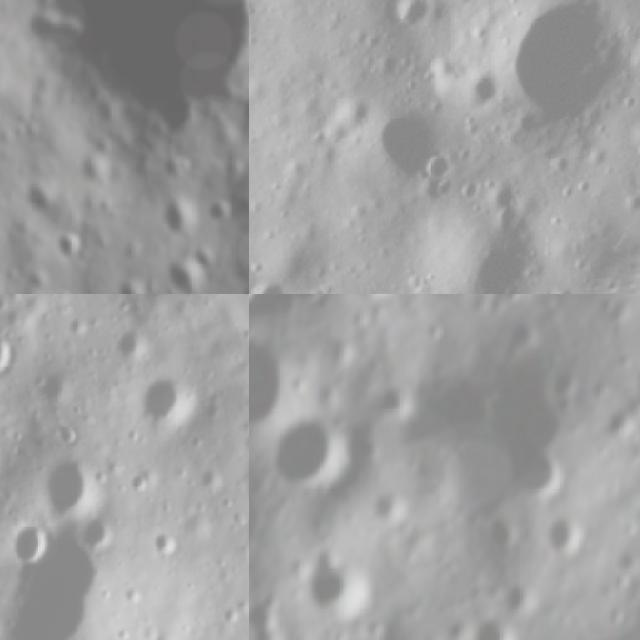crater: (27, 0, 249, 155), (446, 0, 640, 161), (396, 154, 575, 294), (410, 379, 580, 513), (350, 76, 463, 190), (262, 412, 360, 494), (26, 443, 110, 531), (306, 550, 384, 624), (249, 332, 305, 433), (136, 367, 211, 432), (249, 467, 290, 573), (7, 514, 56, 576), (536, 510, 592, 564), (517, 448, 571, 503), (249, 255, 308, 294), (160, 191, 203, 242), (252, 590, 294, 640), (106, 327, 150, 372), (343, 422, 390, 464), (352, 347, 390, 398), (510, 307, 550, 355), (166, 255, 213, 294), (379, 376, 421, 418), (503, 572, 545, 614), (216, 506, 249, 558), (550, 362, 590, 404), (468, 611, 524, 640), (602, 404, 640, 446), (0, 328, 28, 384), (48, 228, 86, 267), (372, 483, 416, 515), (485, 508, 522, 546), (19, 181, 58, 217), (206, 190, 238, 227), (325, 331, 357, 364), (612, 543, 640, 572), (110, 273, 146, 294), (290, 294, 334, 311), (424, 316, 450, 342), (610, 563, 636, 589), (238, 94, 249, 135)
